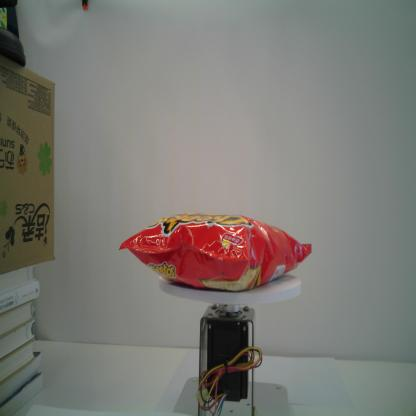Puffed Food: (112, 208, 312, 295)
